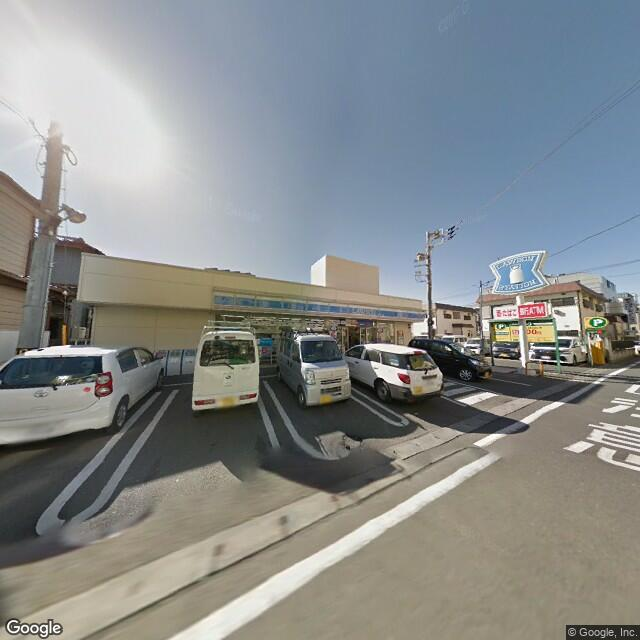lawson: (213, 285, 423, 327), (490, 245, 546, 296)
